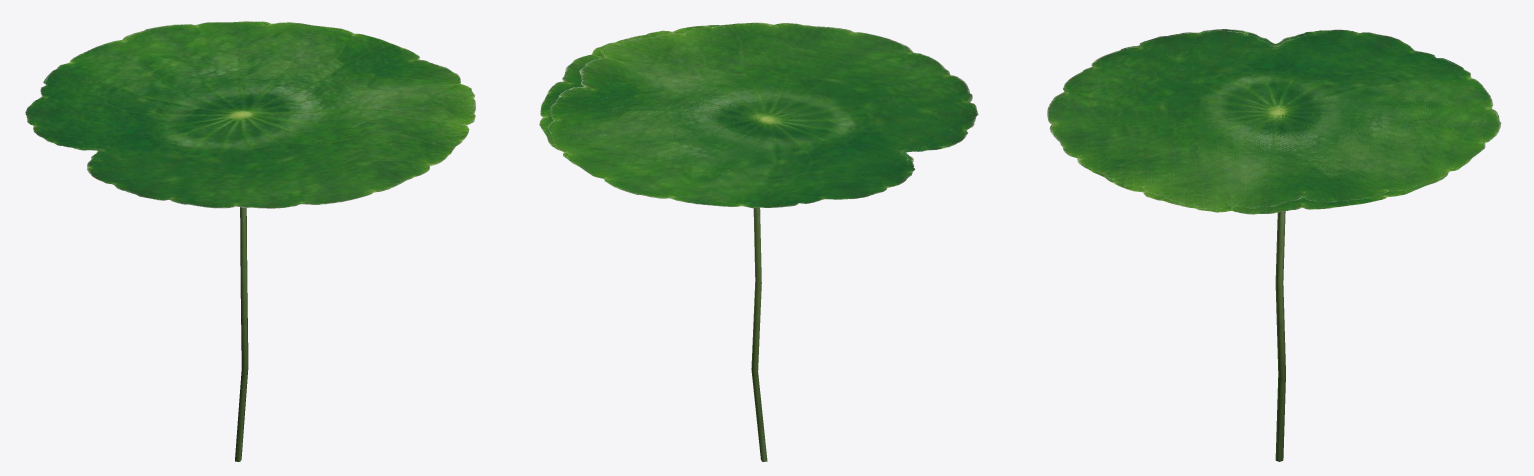
File: Waterlily_Leaf.FBX
3 views of the same model, side by side, from view 1: azimuth 30°, elevation 25°; view 2: azimuth 150°, elevation 25°; view 3: azimuth 270°, elevation 25° (orthographic).
Parts seen in each view (by area): view 1: Nenuphar_Leaf; view 2: Nenuphar_Leaf; view 3: Nenuphar_Leaf.
Boxes of the visible parts, box(x1,y1,x2,y2) form: Nenuphar_Leaf: box(25, 21, 475, 461); Nenuphar_Leaf: box(539, 22, 978, 461); Nenuphar_Leaf: box(1047, 29, 1501, 461).
Bounding box in the file's own units: 0.6064 × 0.4673 × 0.6064.
